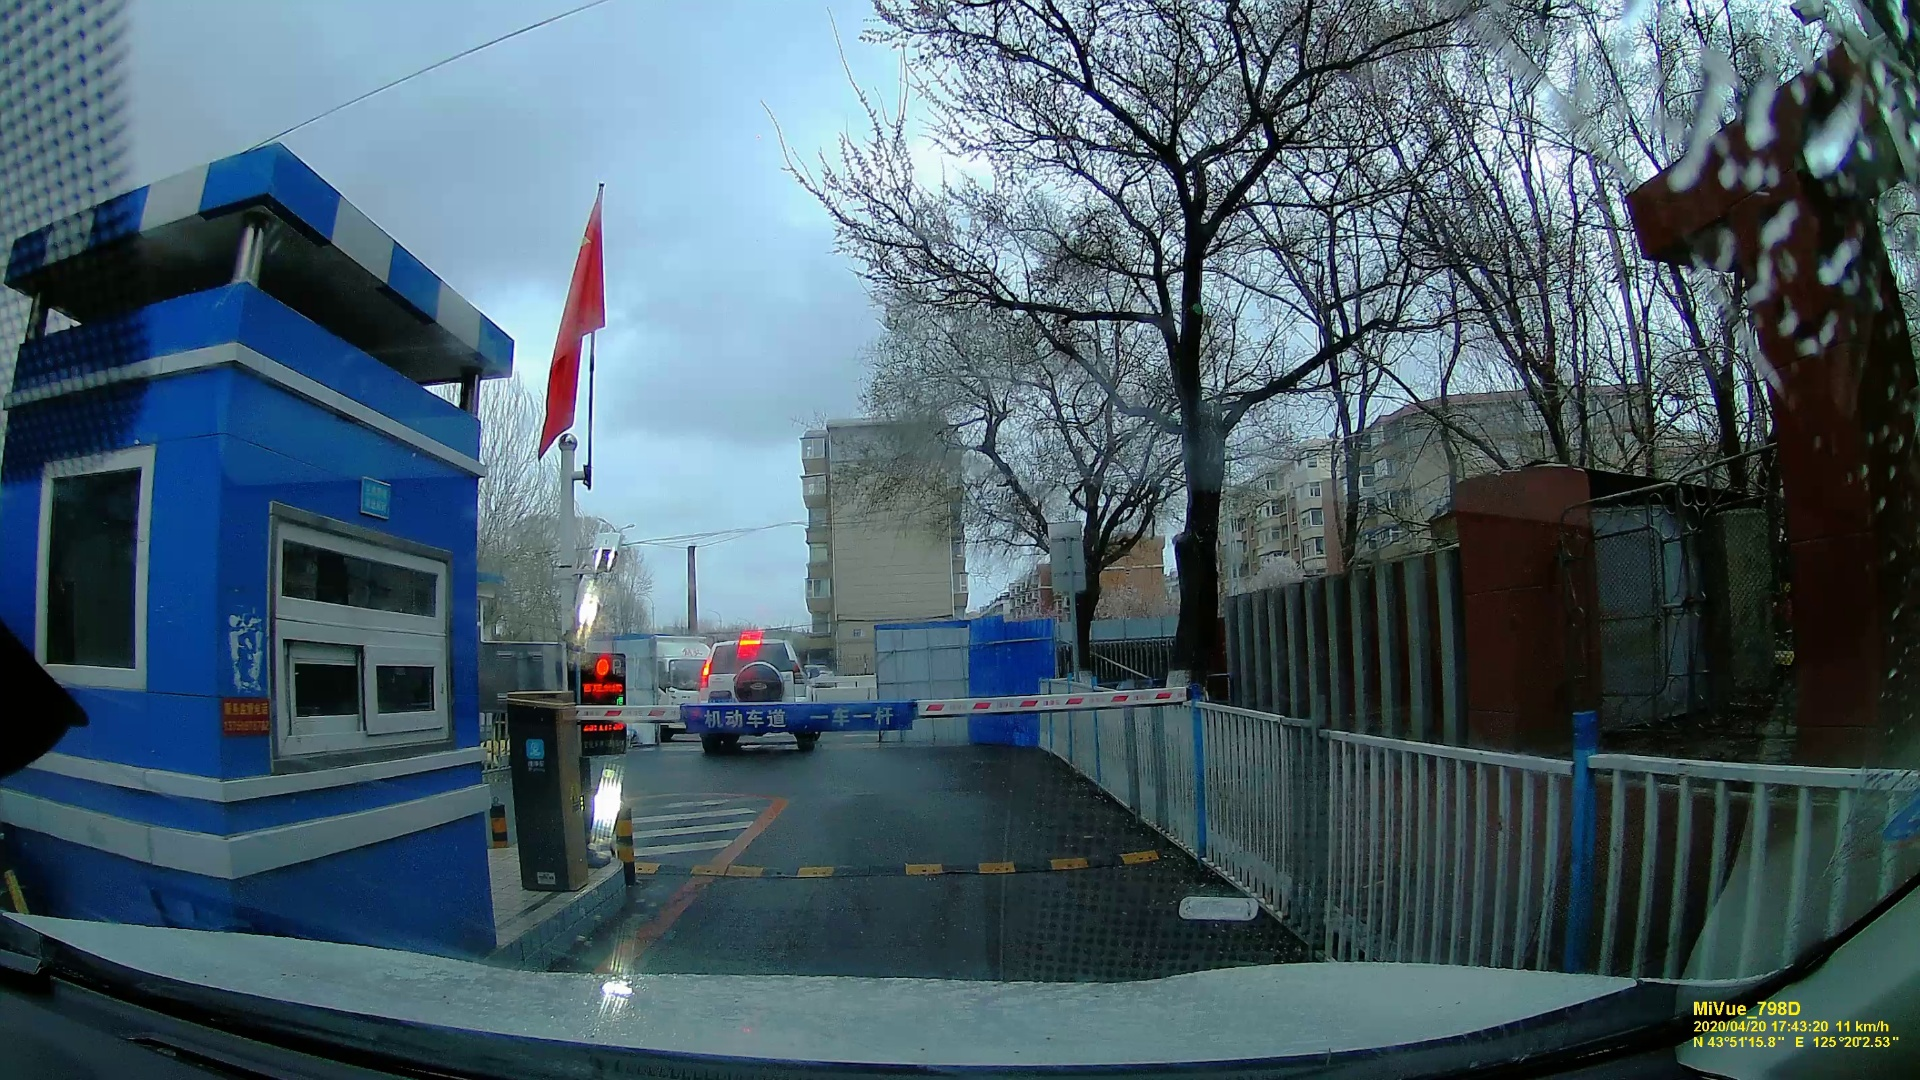truck: (640, 638, 711, 742)
vehicle: (698, 637, 819, 749)
